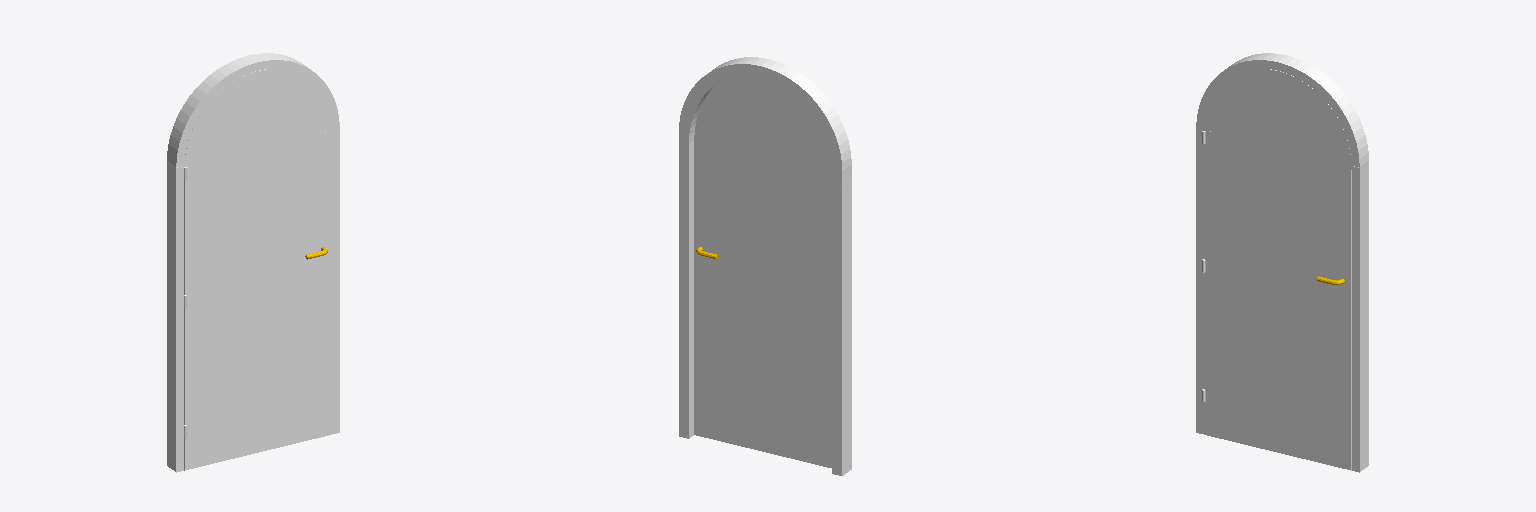
Rendered from externaldoor.obj.
3 renders of one model, left to right at view 1: azimuth 30°, elevation 25°; view 2: azimuth 150°, elevation 25°; view 3: azimuth 330°, elevation 25°, orthographic.
Parts seen in each view (by area): view 1: Porte_7, Montant_1; view 2: Porte_7, Montant_1; view 3: Porte_7, Montant_1.
Part boxes in pixels (bbox=[...]): Porte_7: bbox=[184, 69, 331, 470]; Montant_1: bbox=[167, 53, 339, 472]; Porte_7: bbox=[694, 75, 832, 467]; Montant_1: bbox=[679, 57, 851, 475]; Porte_7: bbox=[1204, 69, 1351, 470]; Montant_1: bbox=[1196, 53, 1368, 472].
Size of the model in its own units: 91.44 by 209 by 14.61.